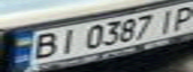0: (81, 21, 106, 51)
3: (103, 18, 124, 46)
7: (133, 11, 160, 39)
8: (118, 16, 142, 43)
B: (24, 29, 63, 61)
I: (151, 7, 184, 34), (51, 26, 81, 55)
P: (166, 2, 193, 32)
